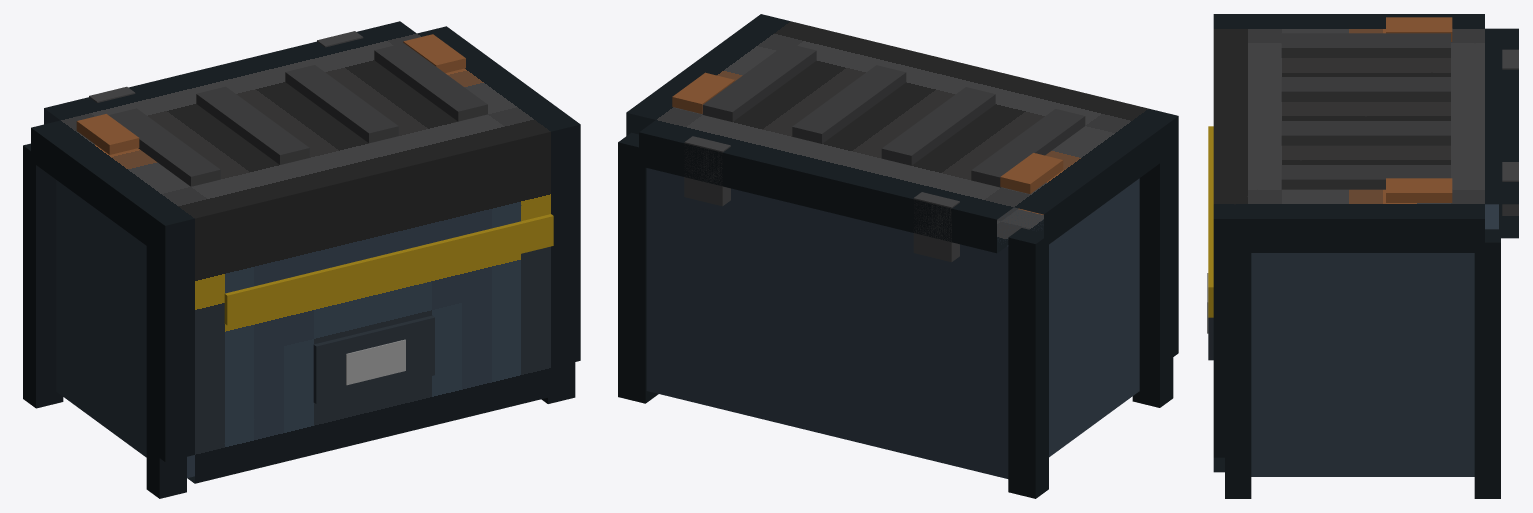
Rendered from CMU3DRMCSecureCaseMini.glb.
3 views of the same model, side by side, from view 1: azimuth 30°, elevation 25°; view 2: azimuth 150°, elevation 25°; view 3: azimuth 270°, elevation 25° (orthographic).
Parts seen in each view (by area): view 1: source mini case front, vented mini case lid, blue black mini case body, raised vent rib (×4), mini case corner bumper (×3), amber front retaining strip, front handle recess, brown lid catch (×2), small silver handle; view 2: blue black mini case body, vented mini case lid, mini case corner bumper (×3), raised vent rib (×4), rear lid hinge (×2), brown lid catch (×2), source mini case front; view 3: vented mini case lid, blue black mini case body, raised vent rib (×4), mini case corner bumper (×2), source mini case front, brown lid catch (×2), amber front retaining strip, rear lid hinge (×2).
Part boxes in pixels (<box>): source mini case front: <box>157,158,580,483</box>; vented mini case lid: <box>31,21,580,259</box>; blue black mini case body: <box>56,180,194,477</box>; raised vent rib (×4): <box>108,43,487,186</box>; mini case corner bumper (×3): <box>23,143,575,498</box>; amber front retaining strip: <box>224,214,553,325</box>; front handle recess: <box>313,315,434,403</box>; brown lid catch (×2): <box>76,34,465,154</box>; small silver handle: <box>346,339,405,385</box>; blue black mini case body: <box>646,168,1139,478</box>; vented mini case lid: <box>626,14,1178,253</box>; mini case corner bumper (×3): <box>618,132,1173,498</box>; raised vent rib (×4): <box>702,43,1085,187</box>; rear lid hinge (×2): <box>684,136,959,262</box>; brown lid catch (×2): <box>672,72,1063,193</box>; source mini case front: <box>1170,150,1178,358</box>; vented mini case lid: <box>1213,14,1518,252</box>; blue black mini case body: <box>1251,204,1498,476</box>; raised vent rib (×4): <box>1281,33,1450,189</box>; mini case corner bumper (×2): <box>1225,229,1500,498</box>; source mini case front: <box>1213,253,1230,472</box>; brown lid catch (×2): <box>1386,17,1452,202</box>; amber front retaining strip: <box>1208,126,1213,317</box>; rear lid hinge (×2): <box>1502,49,1518,215</box>.
Bounding box in the file's own units: 0.4375 × 0.29 × 0.2812.
Materials: 10 (3 with a texture image).
